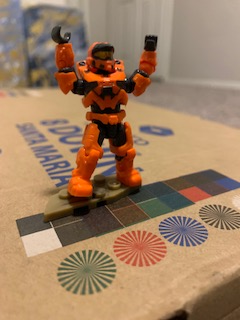spartan: (46, 19, 160, 201)
up: (44, 17, 159, 111)
